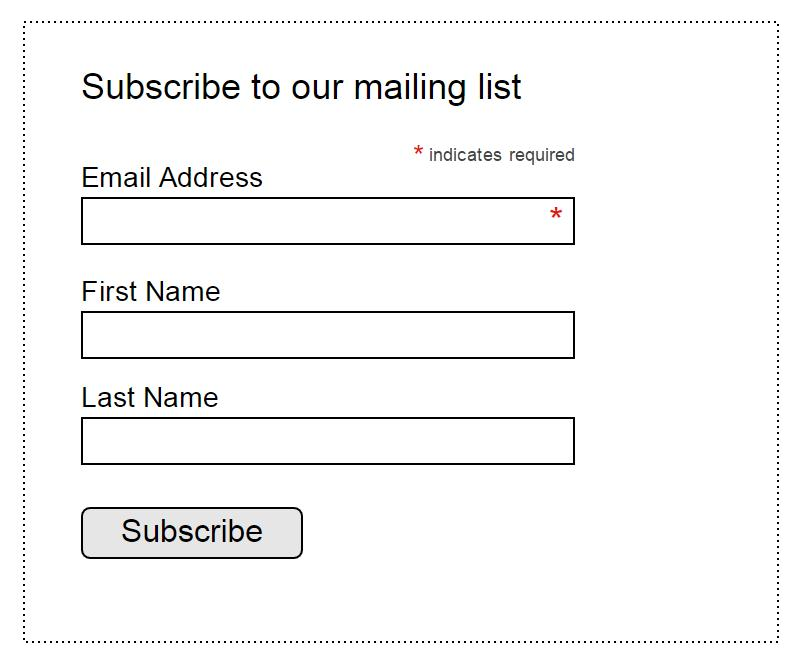button: (74, 501, 315, 569)
textbox: (70, 189, 586, 263)
